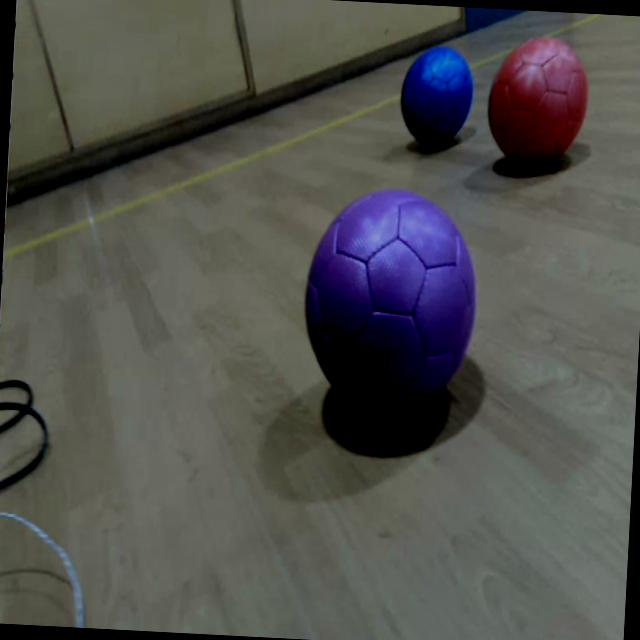blue_ball: (398, 44, 478, 146)
purple_ball: (300, 183, 482, 408)
red_ball: (488, 34, 592, 162)
